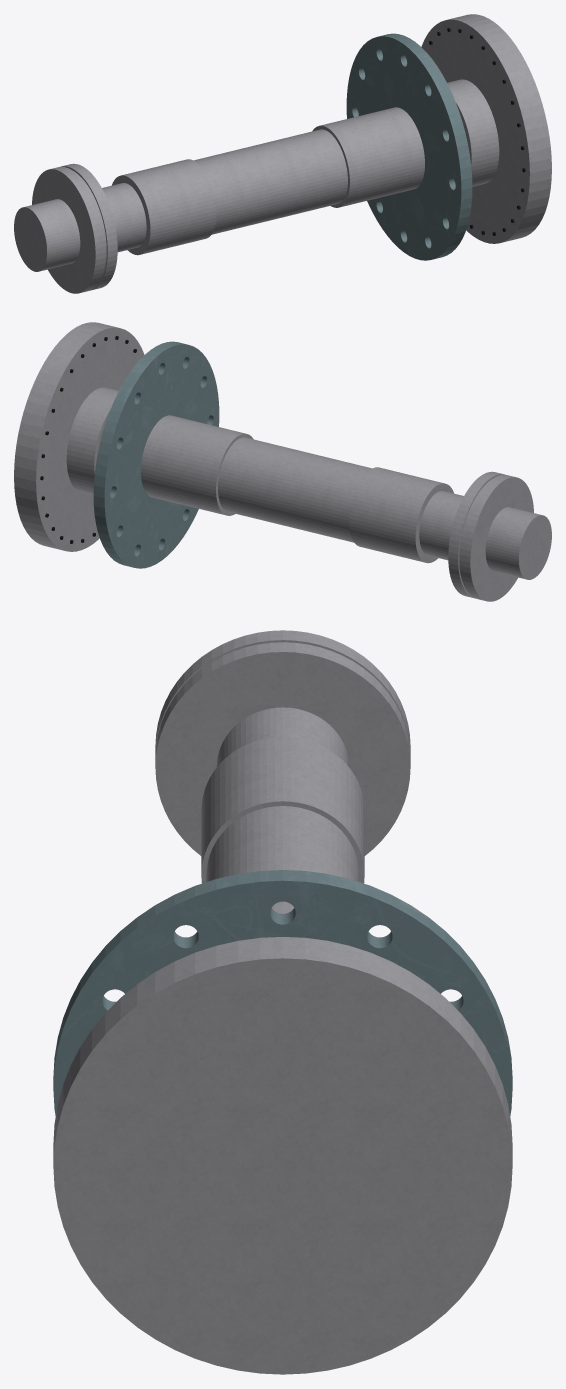
Rendered from main_shaft.glb.
3 renders of one model, top to bottom at view 1: azimuth 30°, elevation 25°; view 2: azimuth 150°, elevation 25°; view 3: azimuth 270°, elevation 25°, orthographic. The views are drawn at different scales.
Parts seen in each view (by area): view 1: main_shaft; view 2: main_shaft; view 3: main_shaft.
Part boxes in pixels (<box>): main_shaft: <box>14,14,551,293</box>; main_shaft: <box>14,322,551,601</box>; main_shaft: <box>53,630,512,1374</box>.
Bounding box in the file's own units: 4.2 × 1.8 × 1.8.
3 materials, 2 textured.
